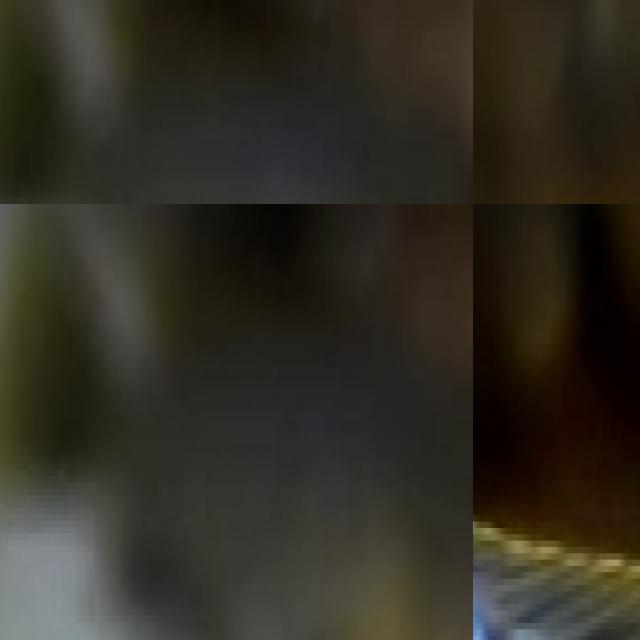fish: (0, 204, 473, 640), (0, 0, 473, 204)
